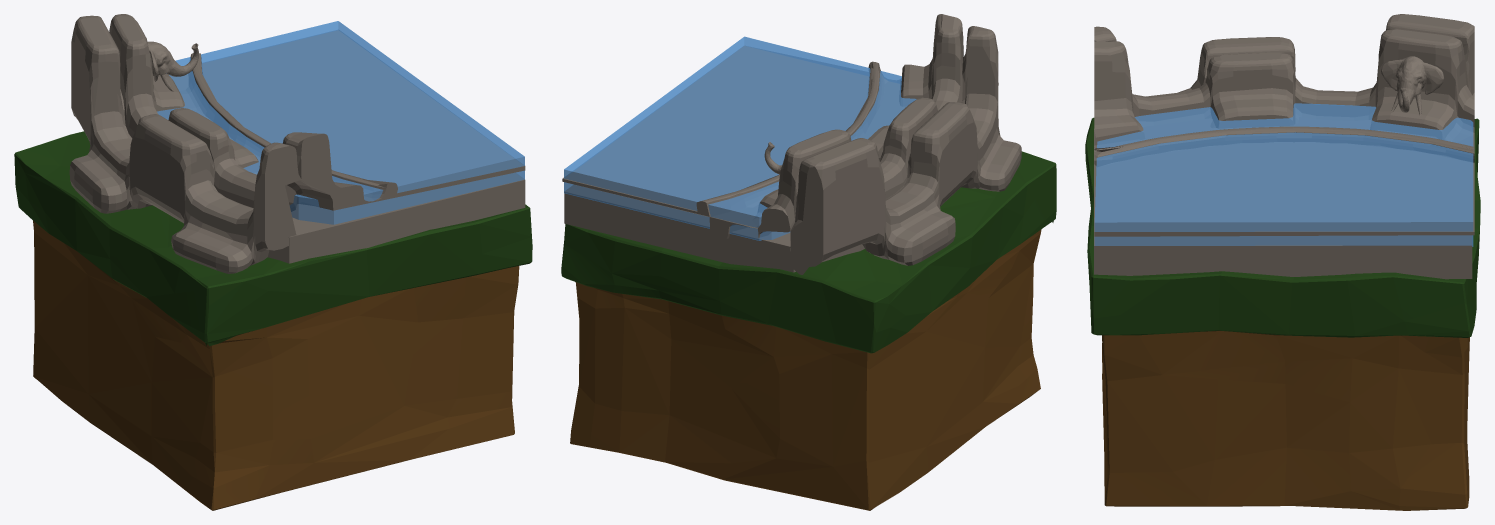
3 views of the same model, side by side, from view 1: azimuth 30°, elevation 25°; view 2: azimuth 150°, elevation 25°; view 3: azimuth 270°, elevation 25° (orthographic). The views are drawn at different scales.
Visible parts, largest first — view 1: L2; view 2: L2; view 3: L2.
Part boxes in pixels (x1=…): L2: x1=14, y1=14, x2=532, y2=510; L2: x1=561, y1=14, x2=1056, y2=510; L2: x1=1085, y1=14, x2=1480, y2=510.
Bounding box in the file's own units: 1.07 × 1.1 × 1.09.
